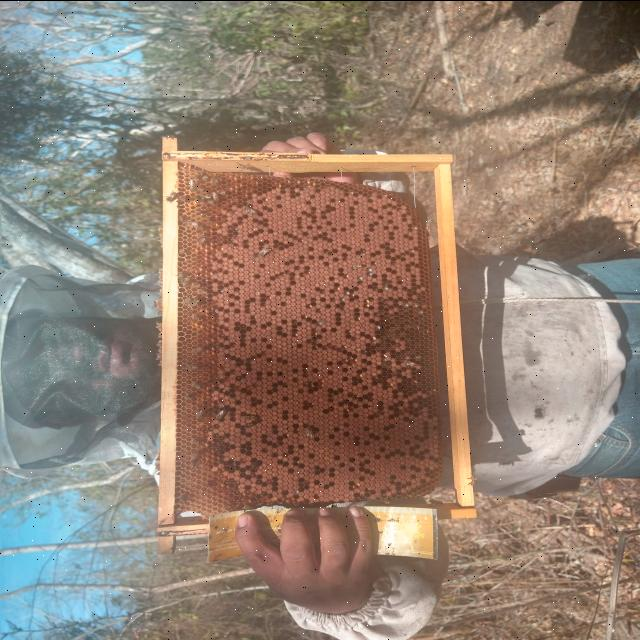cria: (207, 183, 440, 503)
marco: (178, 168, 439, 522)
